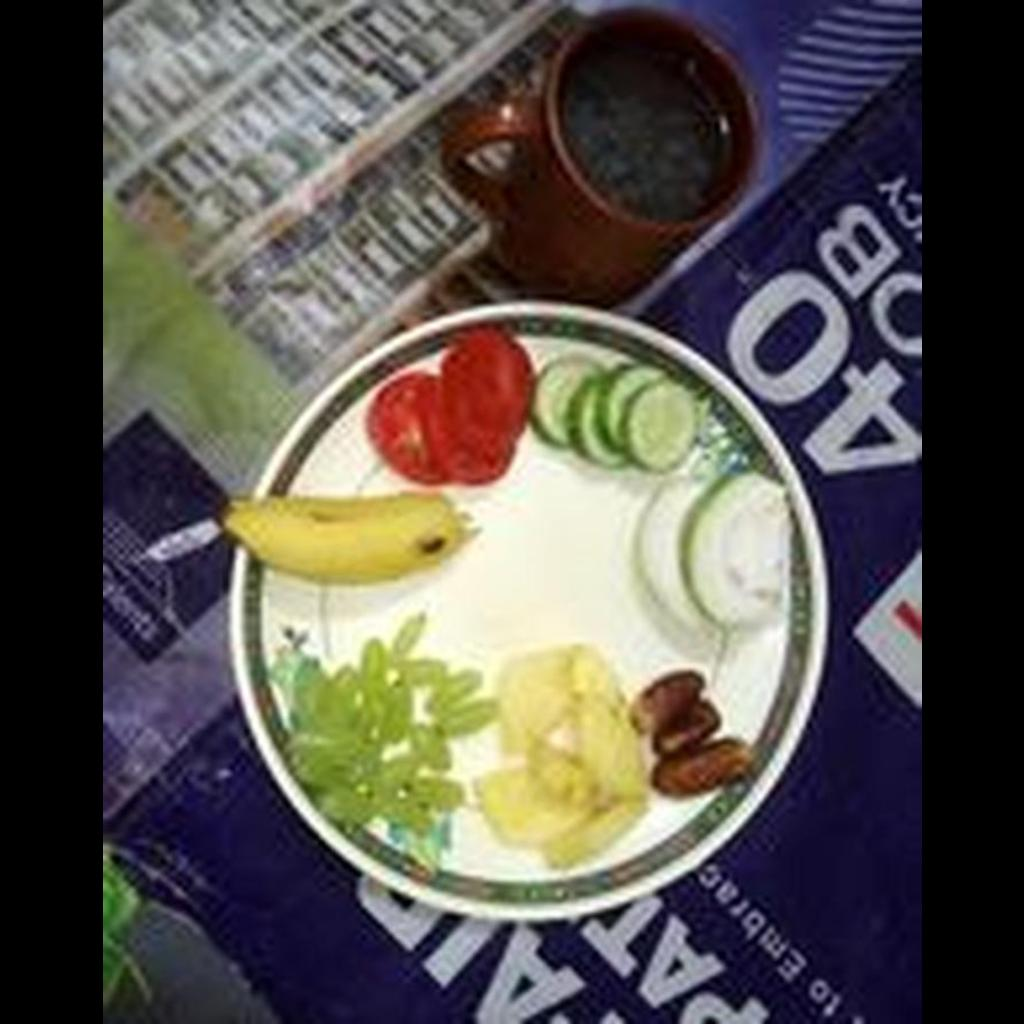banana: (223, 496, 472, 588)
cucumber: (542, 356, 695, 471)
dates: (634, 674, 754, 802)
grapes: (286, 612, 492, 840)
guava: (633, 476, 785, 639)
tomato: (365, 332, 533, 487)
